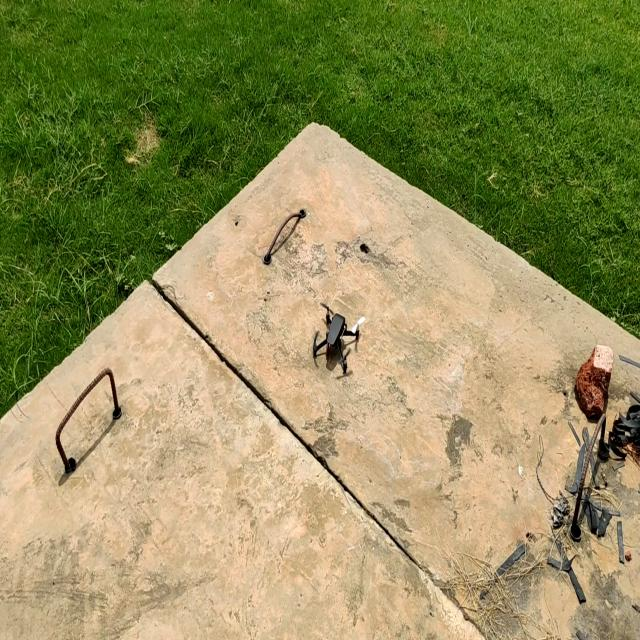drone: (306, 289, 368, 389)
